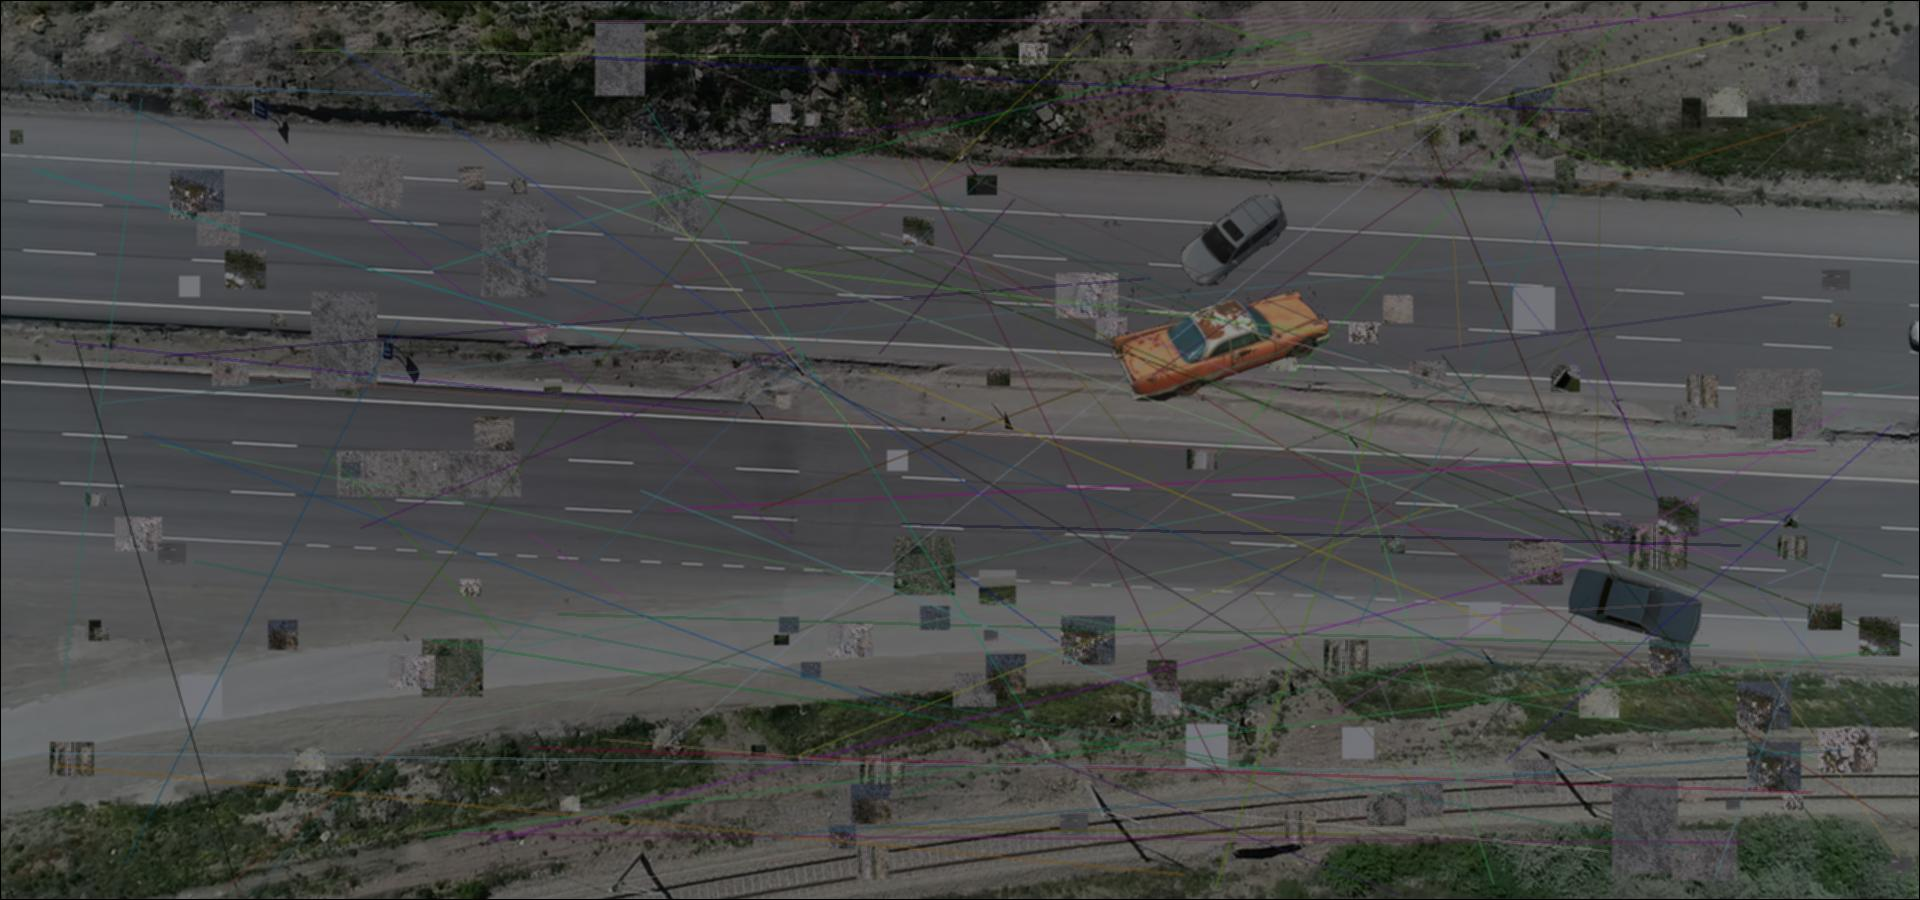arac: (1100, 287, 1343, 400), (1569, 567, 1704, 644), (1176, 195, 1287, 287), (1202, 318, 1262, 340)
